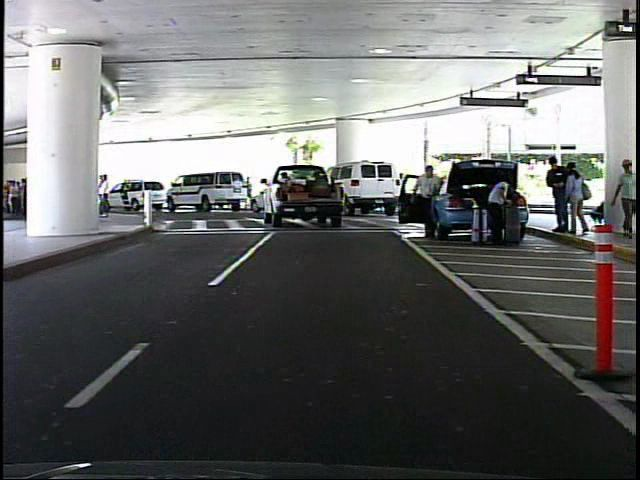person: (479, 170, 516, 248), (408, 162, 445, 240), (562, 158, 591, 238), (545, 153, 572, 238), (612, 156, 639, 236), (243, 174, 257, 211)
